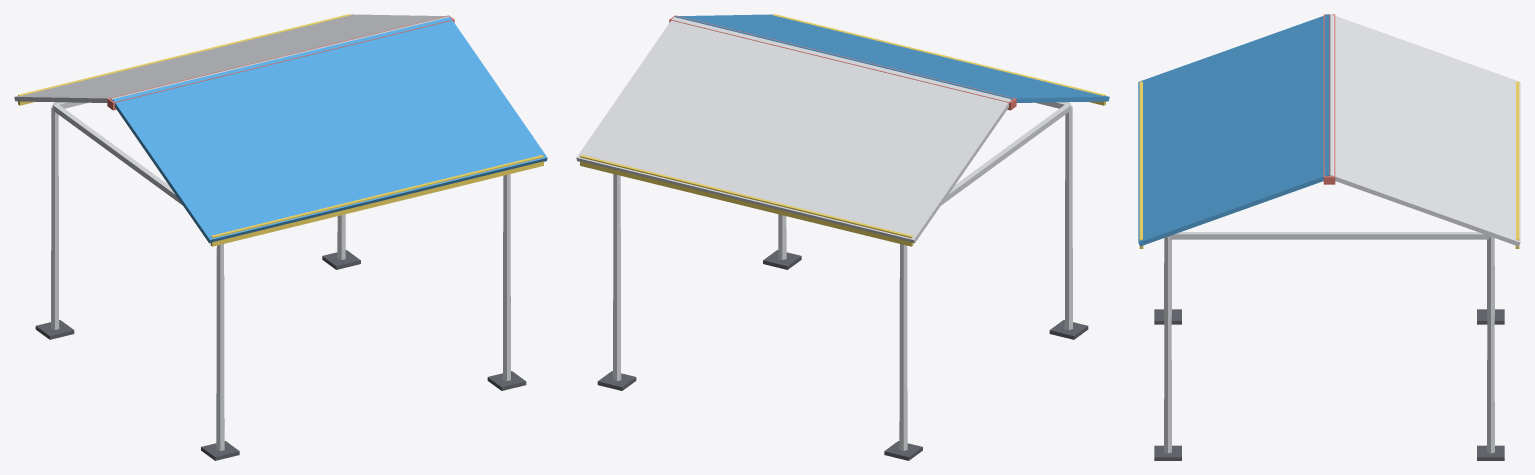
File: dog-agility-and-training-field-shade-gazebo-b25e7ce2.glb
3 renders of one model, left to right at view 1: azimuth 30°, elevation 25°; view 2: azimuth 150°, elevation 25°; view 3: azimuth 270°, elevation 25°, orthographic. The views are drawn at different scales.
Visible parts, largest first — view 1: shade-gazebo-azure, shade-gazebo-steel, shade-gazebo-sunflower, shade-gazebo-charcoal, shade-gazebo-poppy; view 2: shade-gazebo-steel, shade-gazebo-azure, shade-gazebo-sunflower, shade-gazebo-charcoal, shade-gazebo-poppy; view 3: shade-gazebo-steel, shade-gazebo-azure, shade-gazebo-charcoal, shade-gazebo-sunflower, shade-gazebo-poppy.
Boxes of the visible parts, x1,y1,x2,y2 form: shade-gazebo-azure: (112, 17, 547, 243); shade-gazebo-steel: (14, 14, 510, 450); shade-gazebo-sunflower: (18, 14, 543, 246); shade-gazebo-charcoal: (35, 250, 526, 460); shade-gazebo-poppy: (107, 15, 454, 110); shade-gazebo-steel: (576, 17, 1072, 450); shade-gazebo-azure: (674, 14, 1109, 102); shade-gazebo-sunflower: (580, 14, 1105, 246); shade-gazebo-charcoal: (597, 250, 1088, 460); shade-gazebo-poppy: (669, 15, 1016, 110); shade-gazebo-steel: (1164, 14, 1520, 453); shade-gazebo-azure: (1138, 14, 1329, 246); shade-gazebo-charcoal: (1154, 309, 1504, 460); shade-gazebo-sunflower: (1139, 81, 1519, 248); shade-gazebo-poppy: (1323, 14, 1335, 184).
Bounding box in the file's own units: 3.34 × 2.8 × 3.31.
